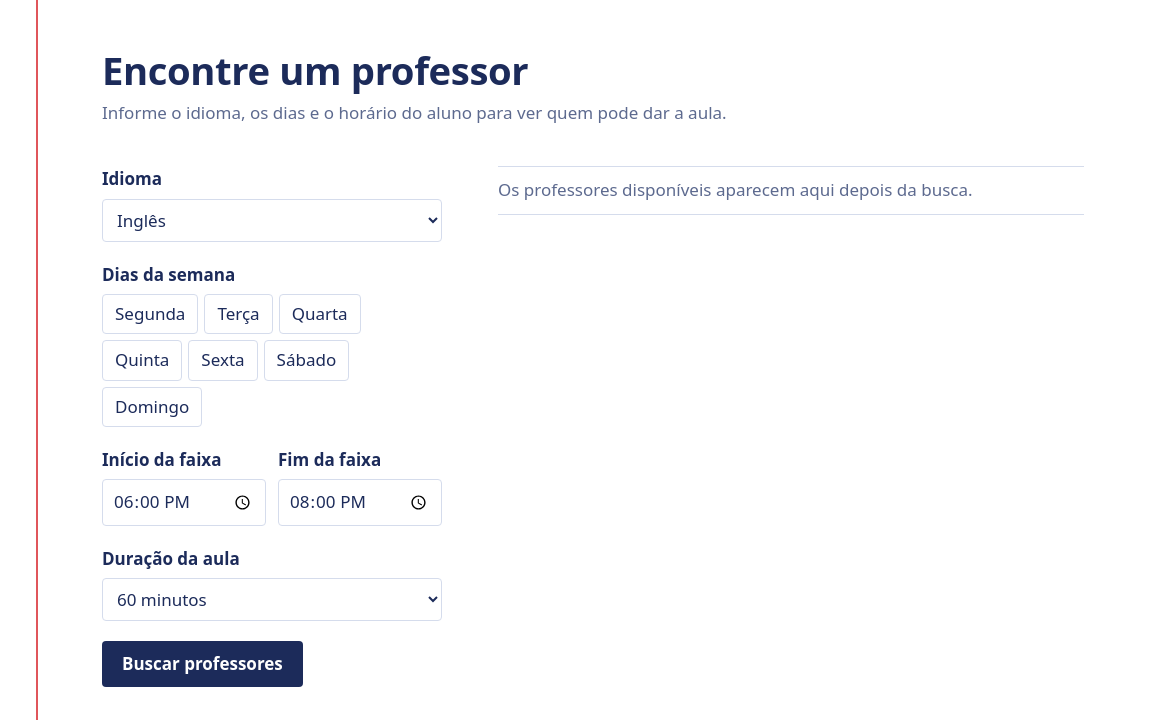
Test case: Tela de busca de professores › mostra os professores disponíveis e os que ficaram de fora
Select "Espanhol" in the dropdown labelled "Idioma" at coordinates (272, 220), box [102,199,442,242]
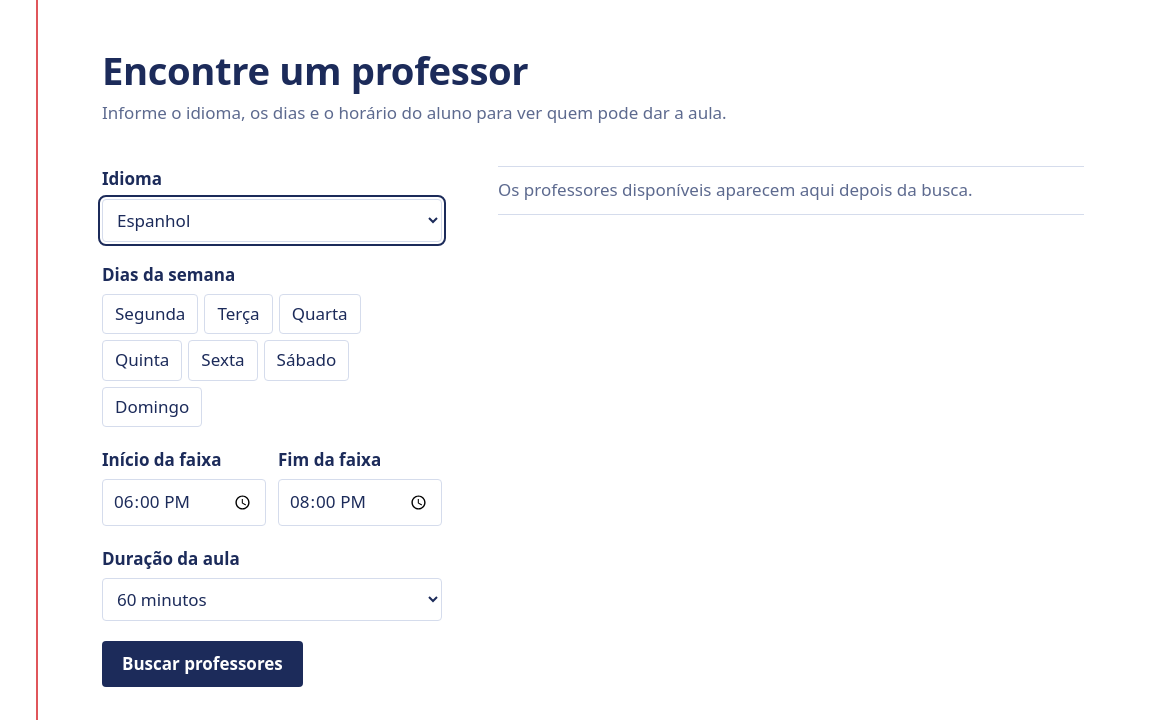
Click the checkbox labelled "Segunda" at coordinates (150, 314), box [102,294,198,334]
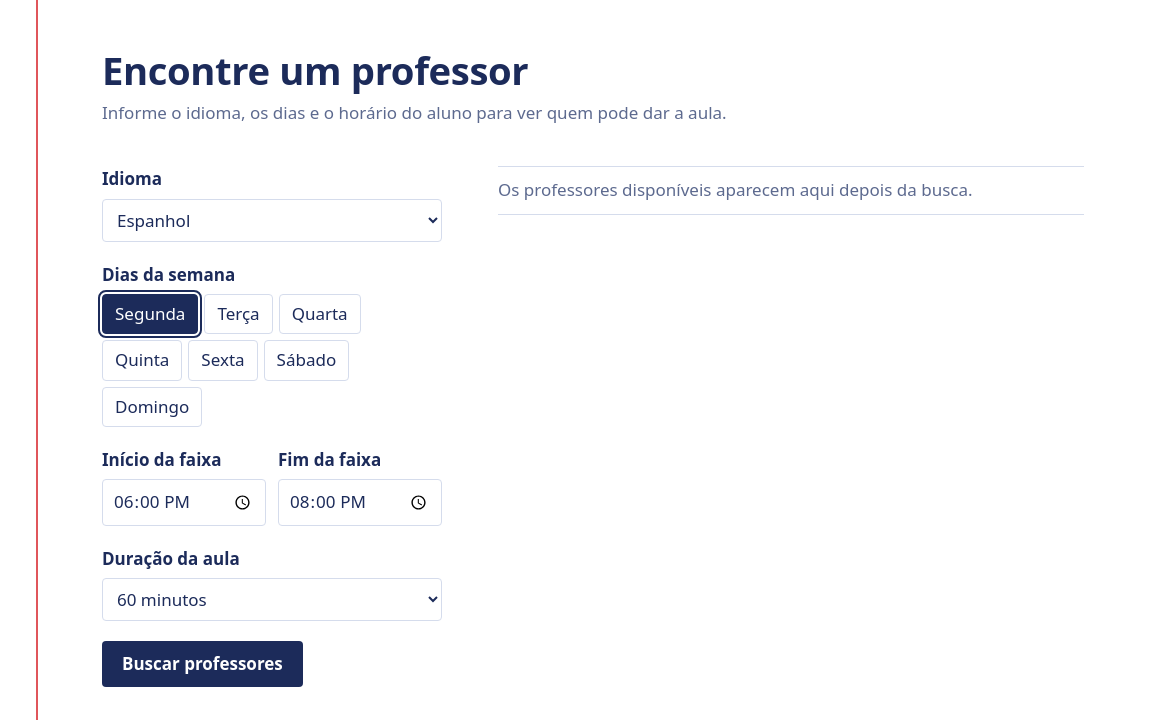
Click the button "Buscar professores" at coordinates (202, 664), box [102,641,303,687]
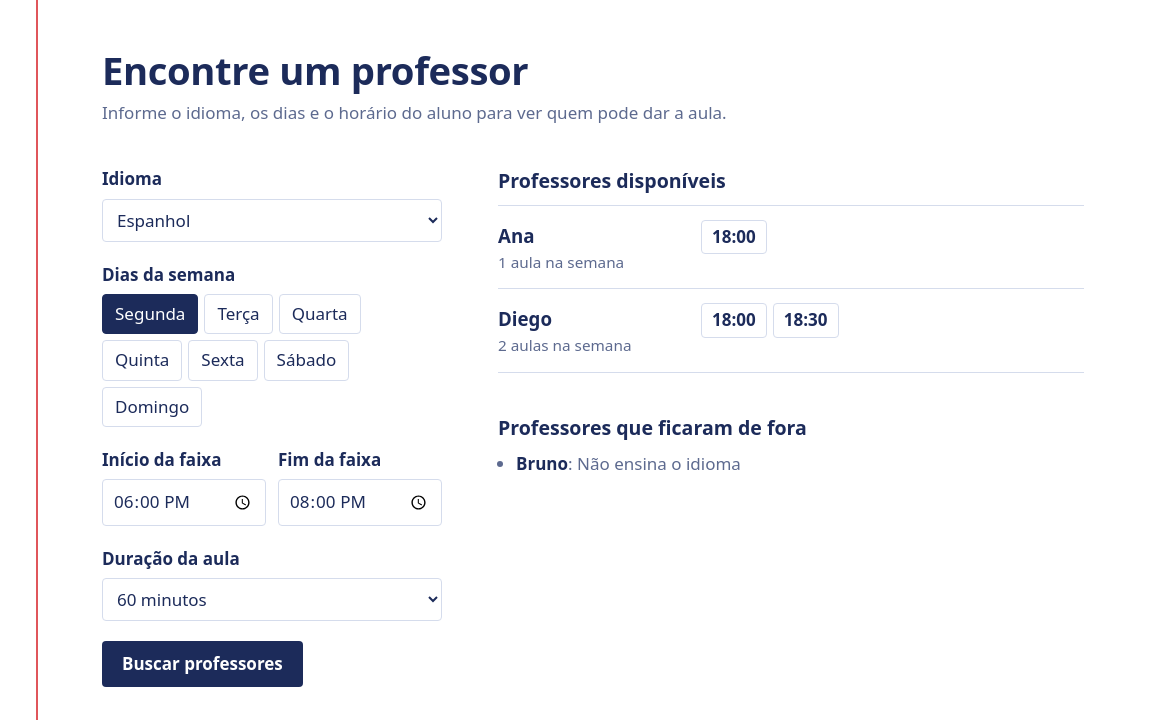
Now the text "1 aula na semana" is shown, box [498,252,624,272]
Now the 1st list item "18:00" is shown, box [701,220,767,254]
Now the text "2 aulas na semana" is shown, box [498,335,632,355]
